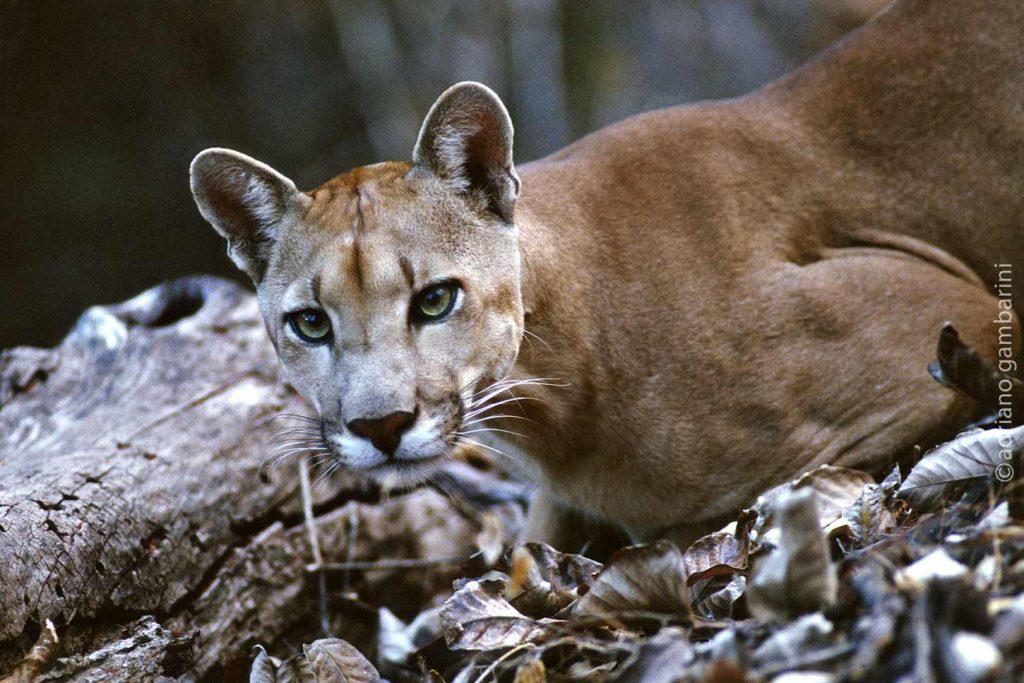OncaParda: (179, 12, 1021, 543)
